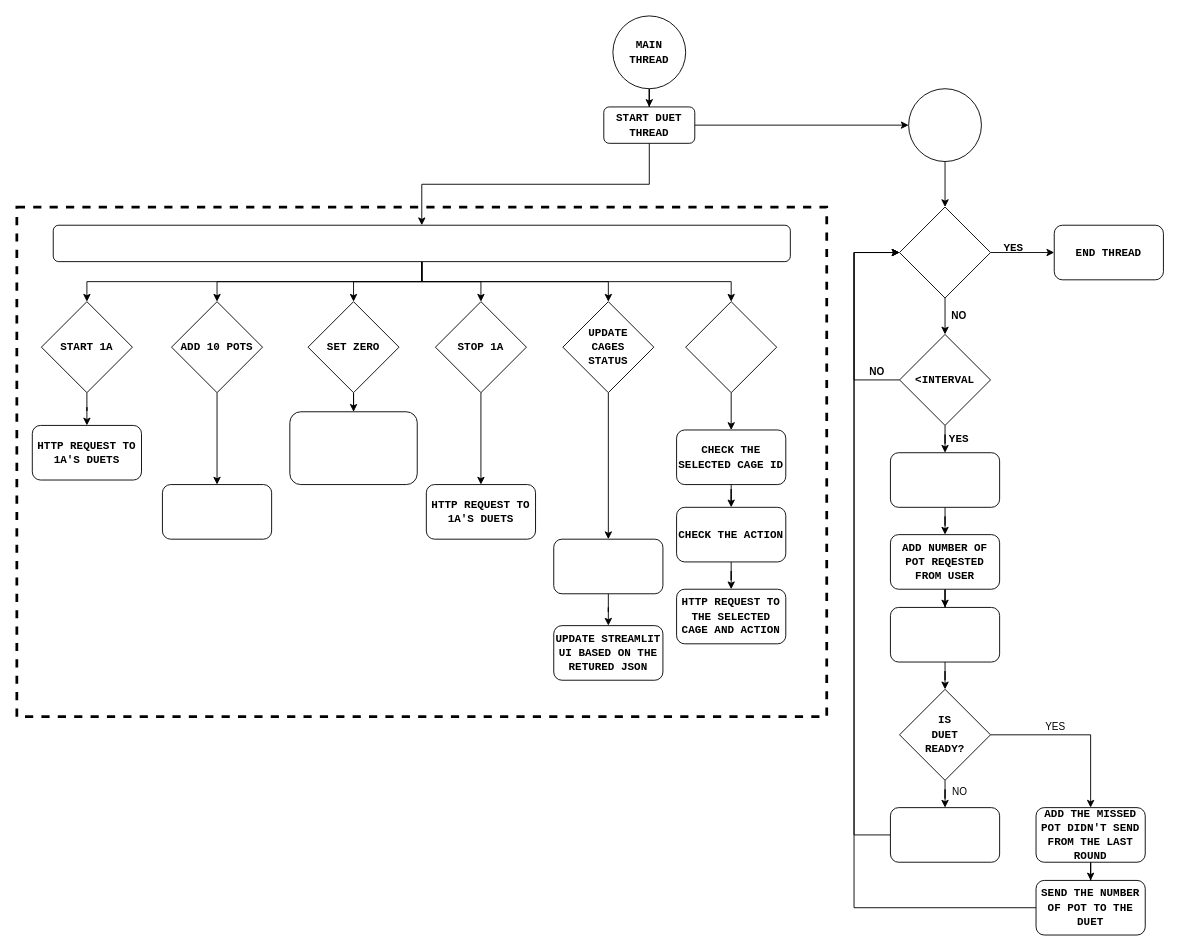
This 1179x951 diagram has some shape labels left out. Each missing label, with the centre of its shape:
ACCUMULATE THE REQUEST FOR NEXT ROUND: (x=945, y=834)
ADD 10 TO USER POT REQUEST: (x=217, y=511)
ADD NUMBER OF POT FROM ACCUMATOR: (x=945, y=634)
ADD NUMBER OF POT REQESTED FROM CAGES: (x=945, y=479)
DUET THREAD: (x=944, y=125)
EXECUTE: (x=731, y=347)
HTTP REQUEST TO ALL CAGES: (x=608, y=566)
SET POT NUMBER FROM USER BUFFER, DUET REMAIN, AND CAGES REUQEST TO ZERO: (x=353, y=448)
STREAMLIT WEB INTERFACE: (x=421, y=243)
THREAD EVENT SET: (x=945, y=252)
